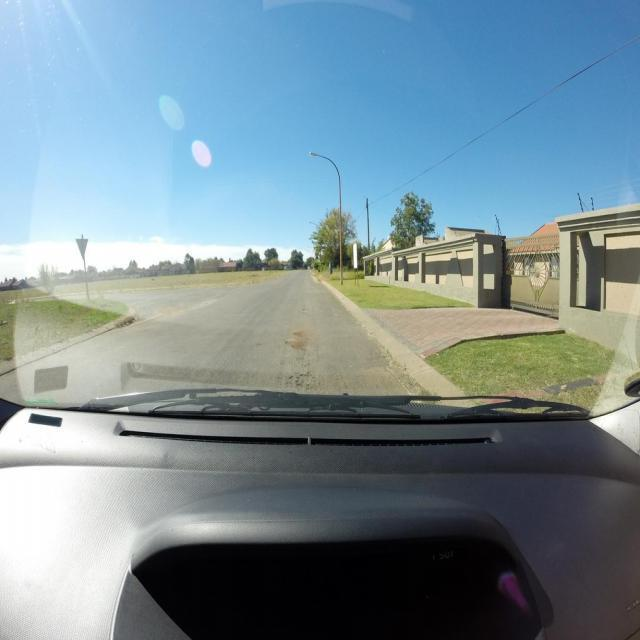pothole: (285, 340, 304, 350), (294, 332, 303, 337), (302, 307, 307, 314)
